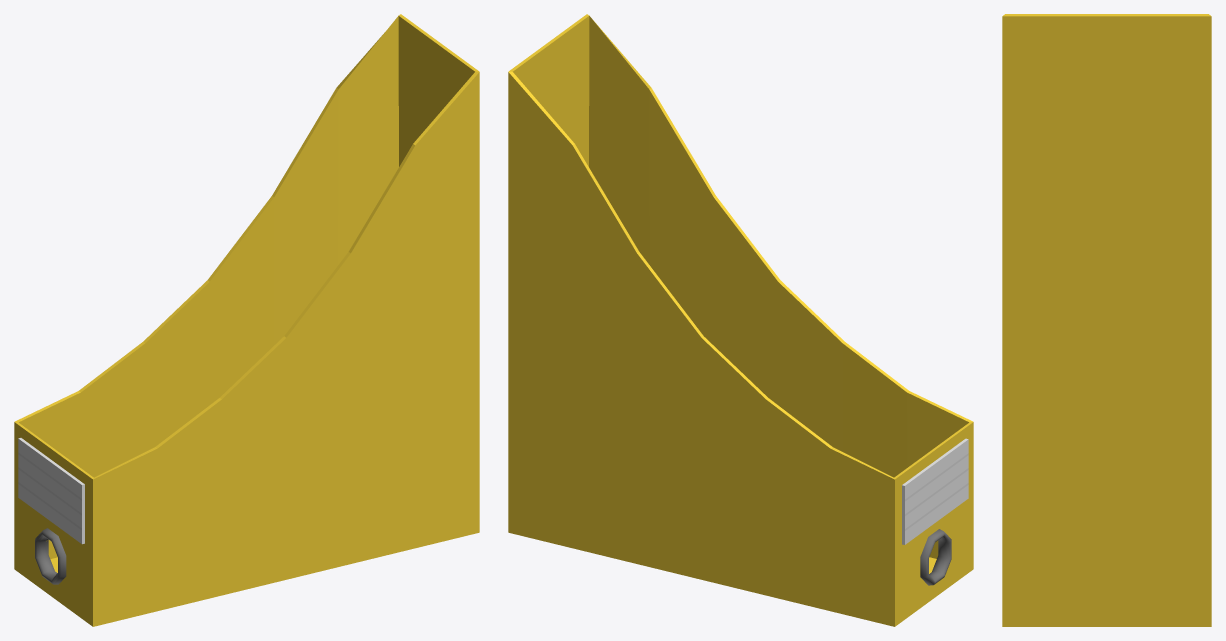
The model's file is File Holder03.fbx.
The picture shows the model from 3 angles, left to right: view 1: azimuth 30°, elevation 25°; view 2: azimuth 150°, elevation 25°; view 3: azimuth 270°, elevation 25°; orthographic projection. The views are drawn at different scales.
Visible parts, largest first — view 1: File Holder03; view 2: File Holder03; view 3: File Holder03.
Part boxes in pixels (box(x1,y1,x2,y2)): File Holder03: box(14, 14, 479, 626); File Holder03: box(508, 14, 973, 626); File Holder03: box(1002, 14, 1211, 626).
Size of the model in its own units: 0.3018 by 0.1049 by 0.3382.
